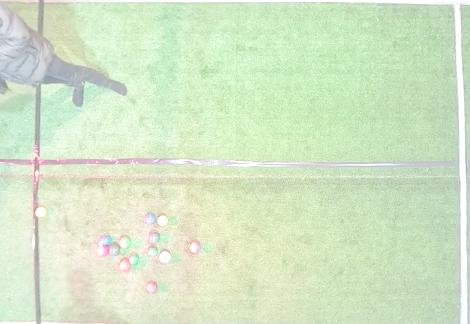blue: (144, 213, 156, 225), (101, 236, 111, 246)
green: (119, 236, 131, 248), (108, 245, 120, 256), (148, 232, 160, 243), (147, 247, 158, 258), (129, 255, 139, 265)
red: (159, 250, 172, 264), (119, 259, 131, 272), (189, 241, 201, 254), (146, 281, 157, 294), (96, 246, 109, 257)
vline: (1, 86, 42, 323), (452, 0, 469, 324), (1, 0, 44, 35)
white: (99, 241, 102, 246)
yellow: (157, 215, 168, 227), (35, 207, 47, 218)
